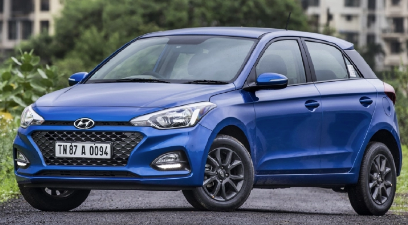car: (11, 25, 403, 215)
